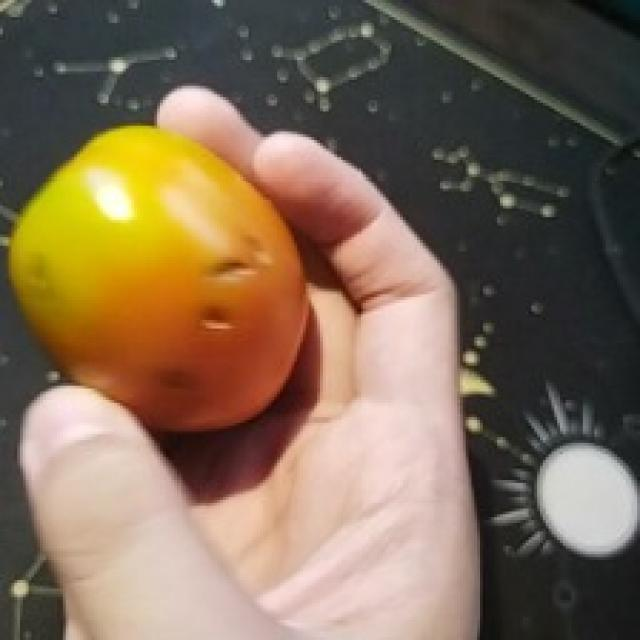Rotten Tomato: (13, 113, 310, 458)
